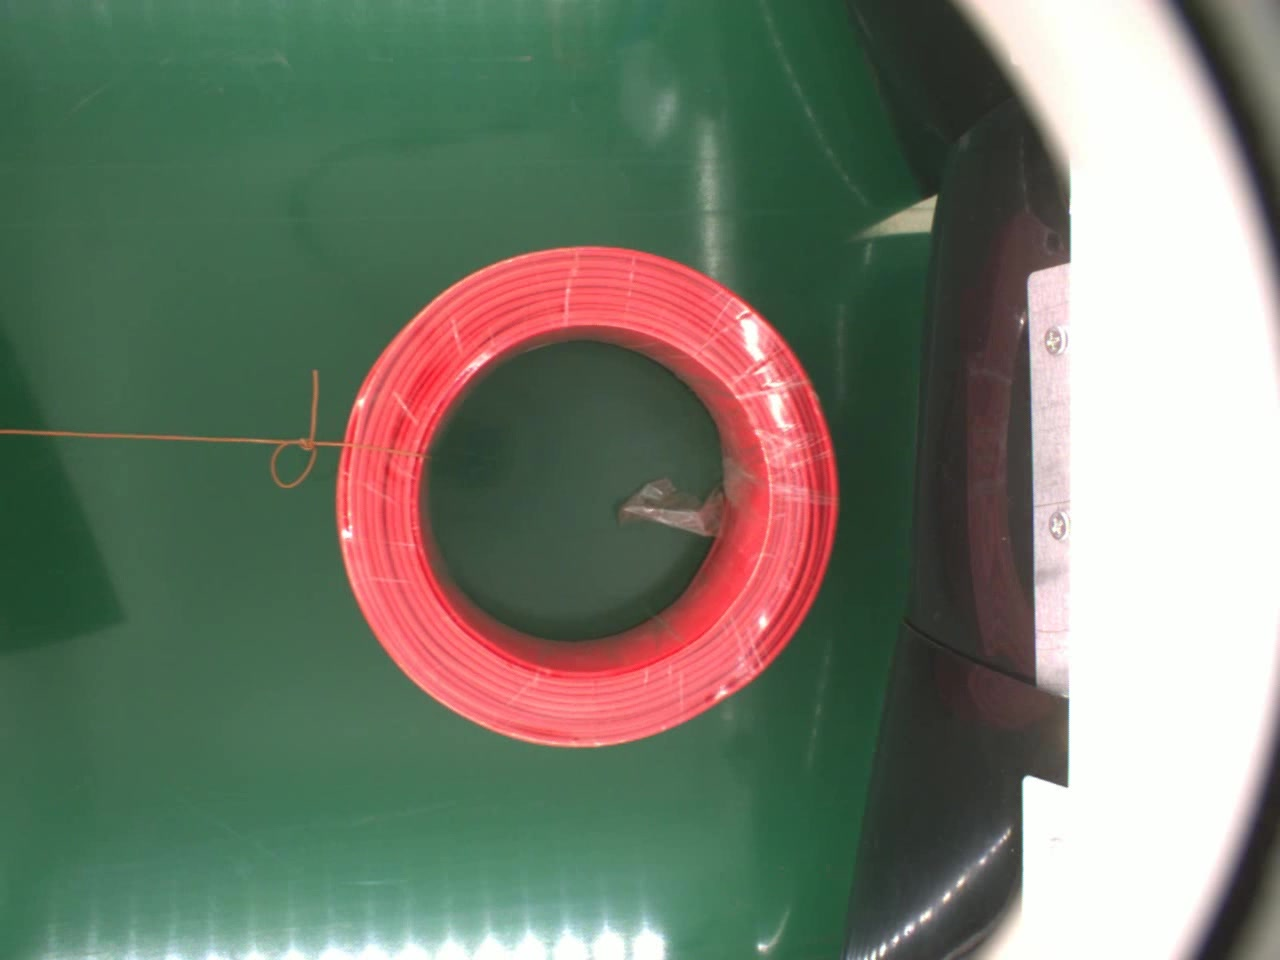red: (322, 241, 848, 756)
